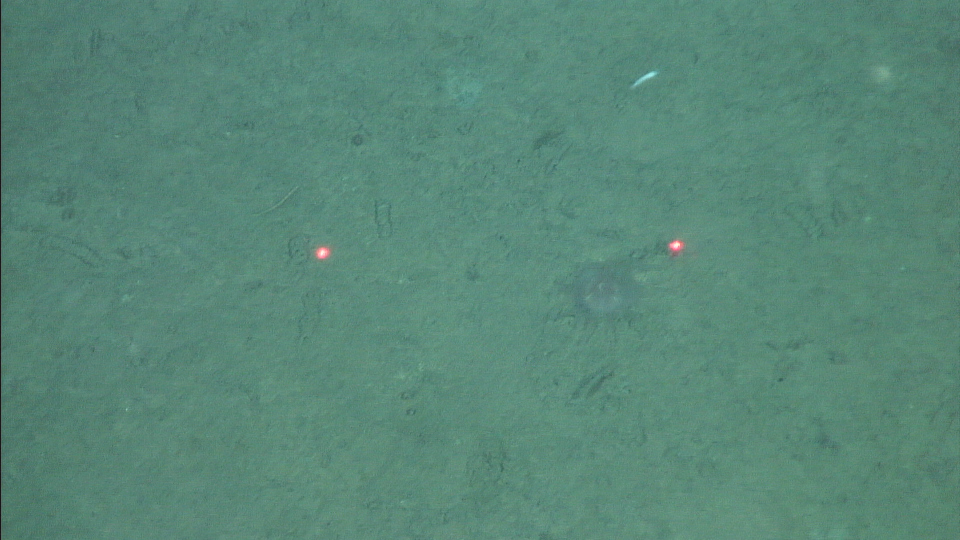FUNGIACYATHUS_MARENZELLERI: (562, 261, 651, 326)
